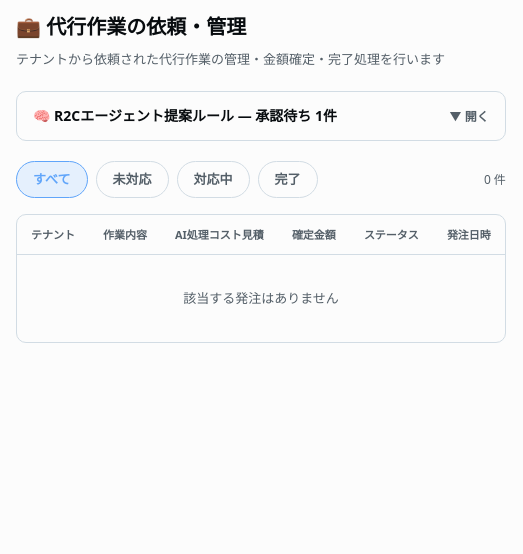
Test: OptionManagementPage — Phase6 R2Cエージェント提案ルール承認キュー › 承認待ちルールがある場合はパネルに件数を表示し、承認できる
Click the text "🧠 R2Cエージェント提案ルール — 承認待ち 1件".
click(185, 116)  # box [33, 104, 337, 128]
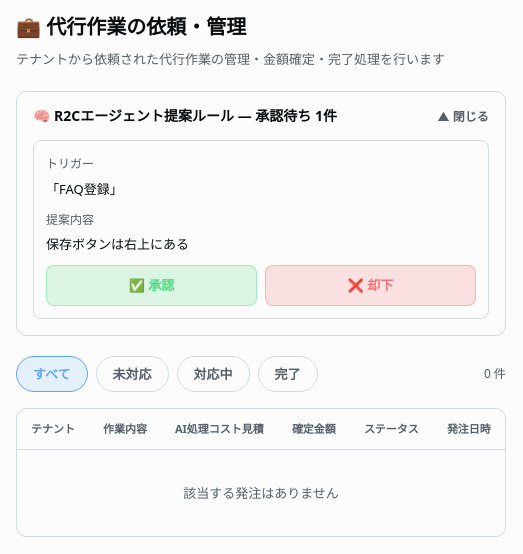
Expected: the text "「FAQ登録」" is shown, [46, 180, 123, 198]
Click the button "✅ 承認".
click(151, 285)  # box [46, 265, 257, 306]
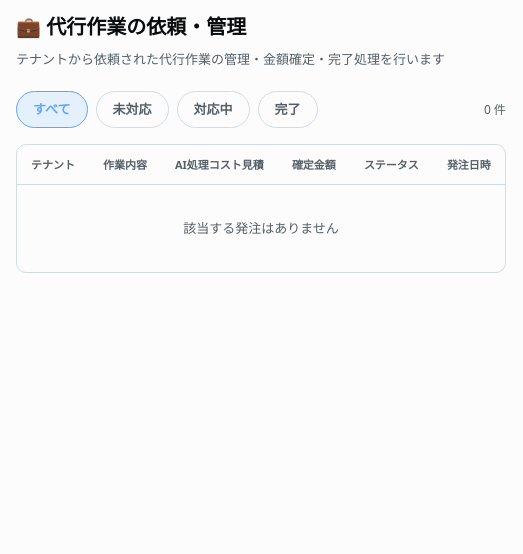
Expected: the text "「FAQ登録」" is gone
